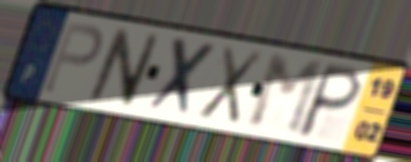M: (244, 53, 327, 139)
N: (84, 25, 163, 111)
P: (293, 61, 366, 142), (39, 18, 106, 96)
X: (142, 34, 221, 122), (194, 43, 267, 127)
